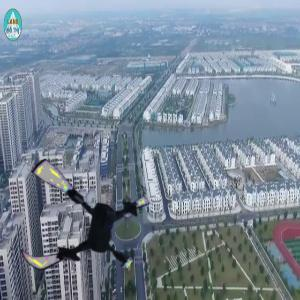drone: (12, 152, 149, 289)
